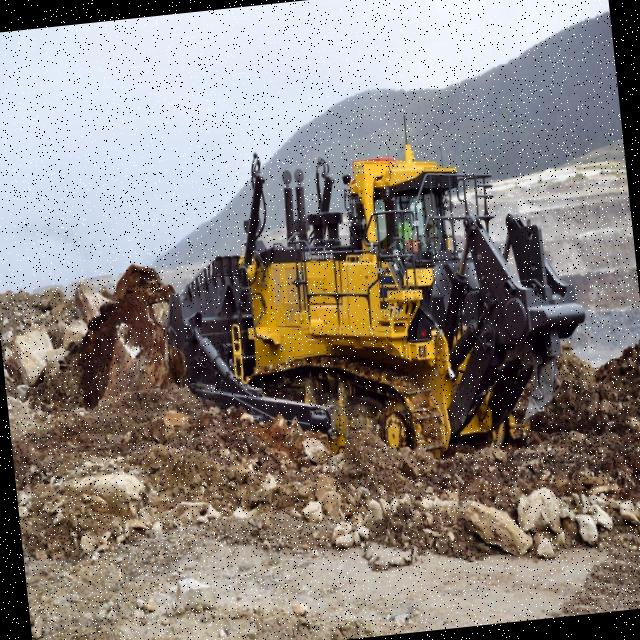Bulldozer: (96, 89, 606, 521)
